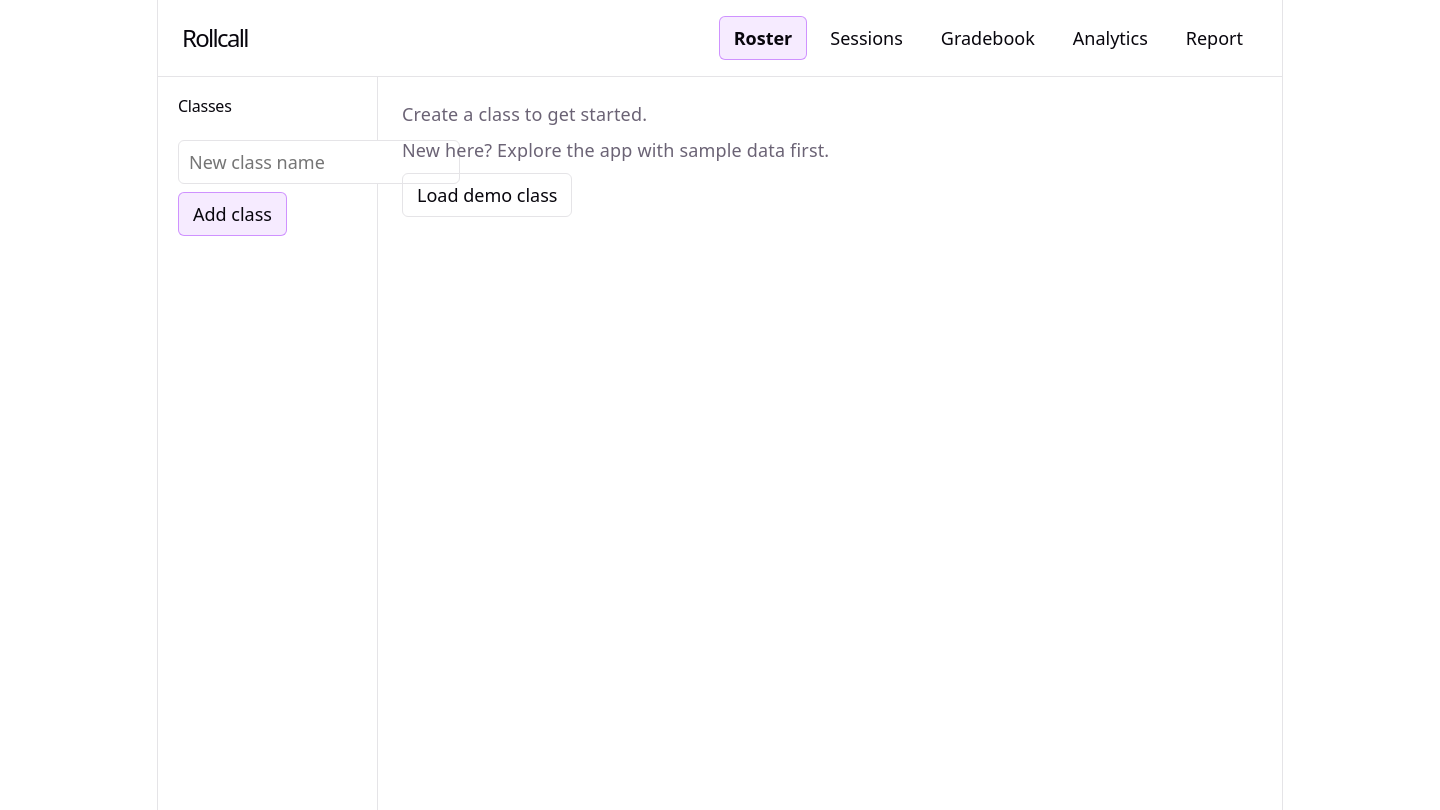
Test: App › edits a participant
Type "Morning Cohort" into the field labelled "New class name" at (319, 162), box x1=178 y1=140 x2=460 y2=184
Click the button "Add class" at (232, 214), box x1=178 y1=192 x2=287 y2=236
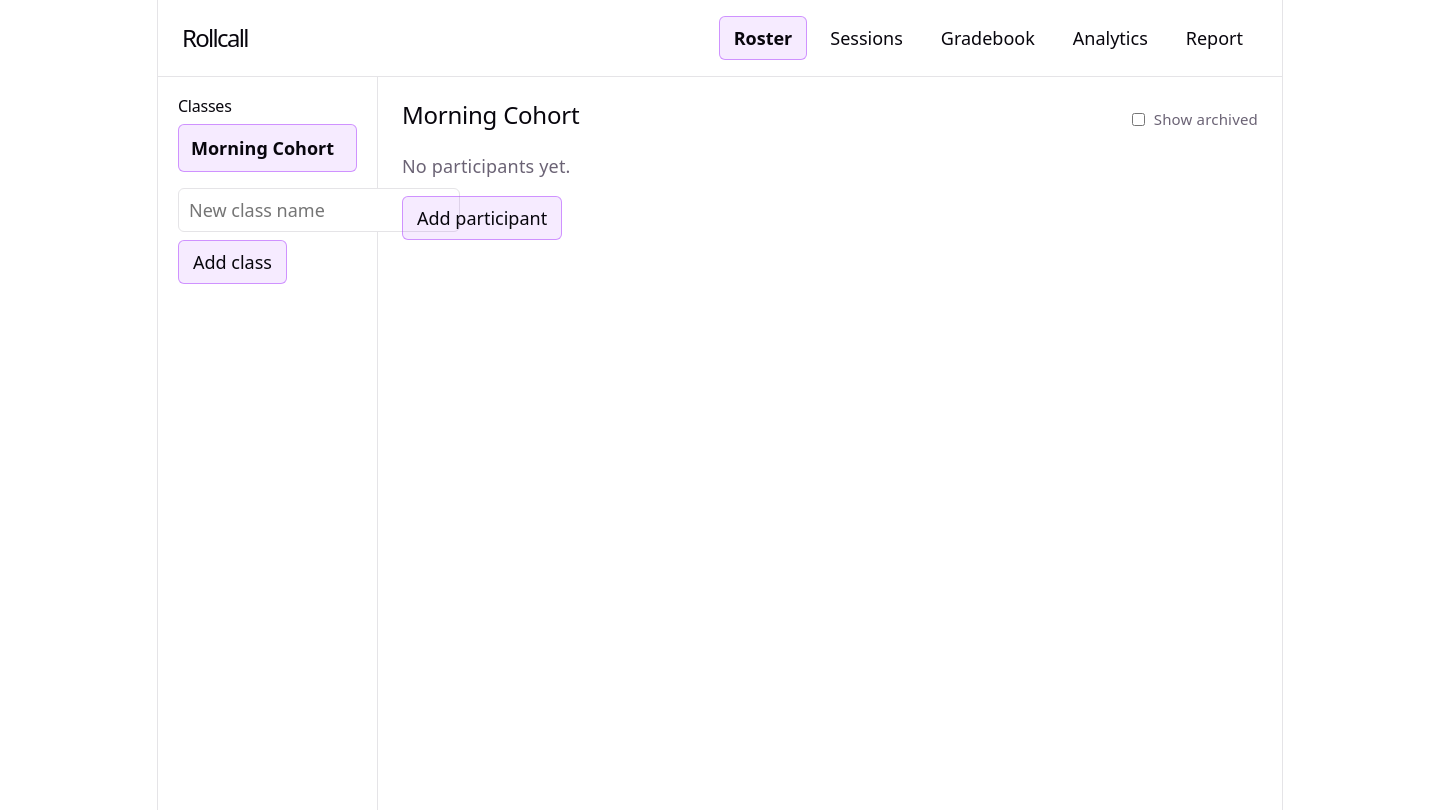
Click the button "Add participant" at (482, 218), box x1=402 y1=196 x2=562 y2=240
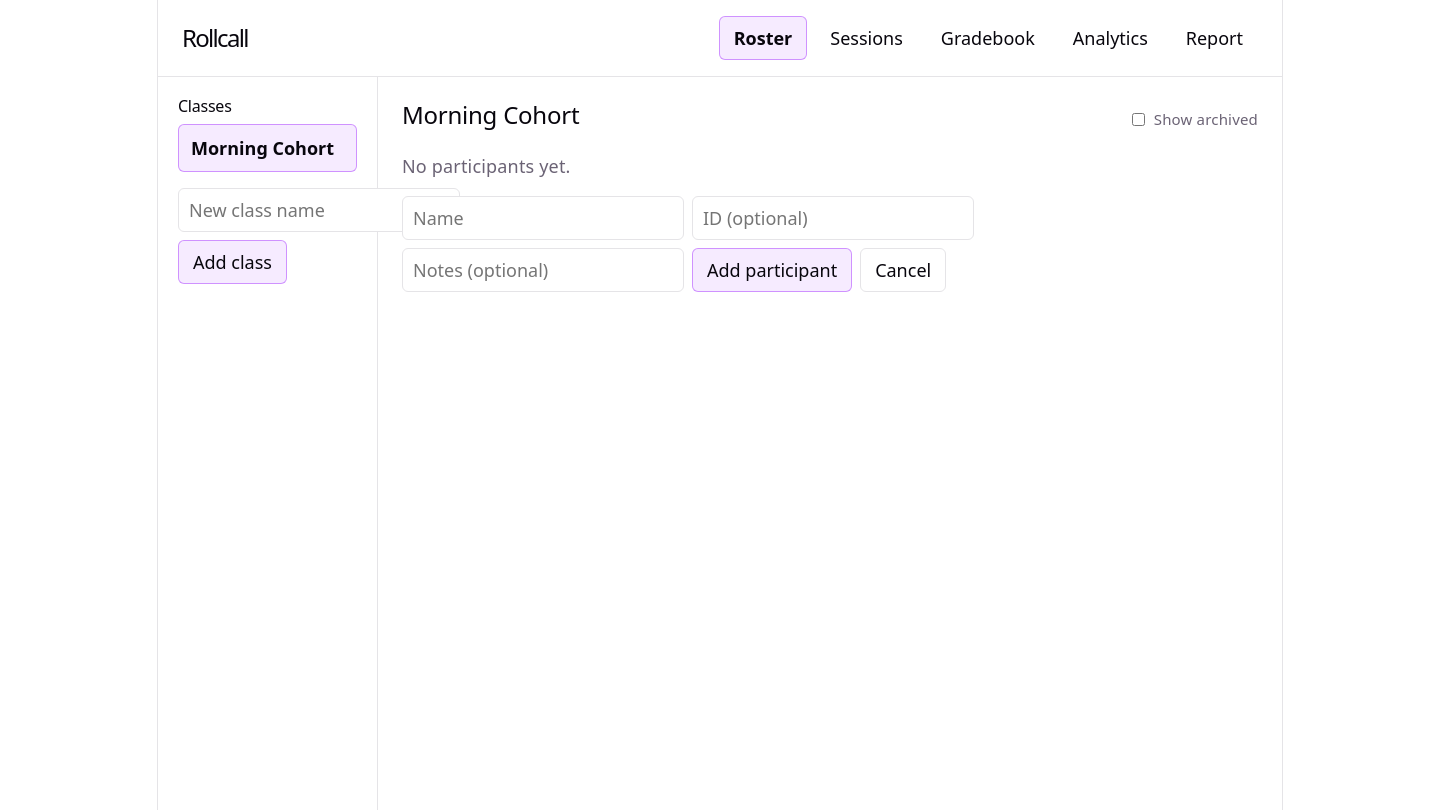
Type "Jane Doe" into the field named "Participant name" at (543, 218), box x1=402 y1=196 x2=684 y2=240
Click the button "Add participant" at (772, 270), box x1=692 y1=248 x2=852 y2=292
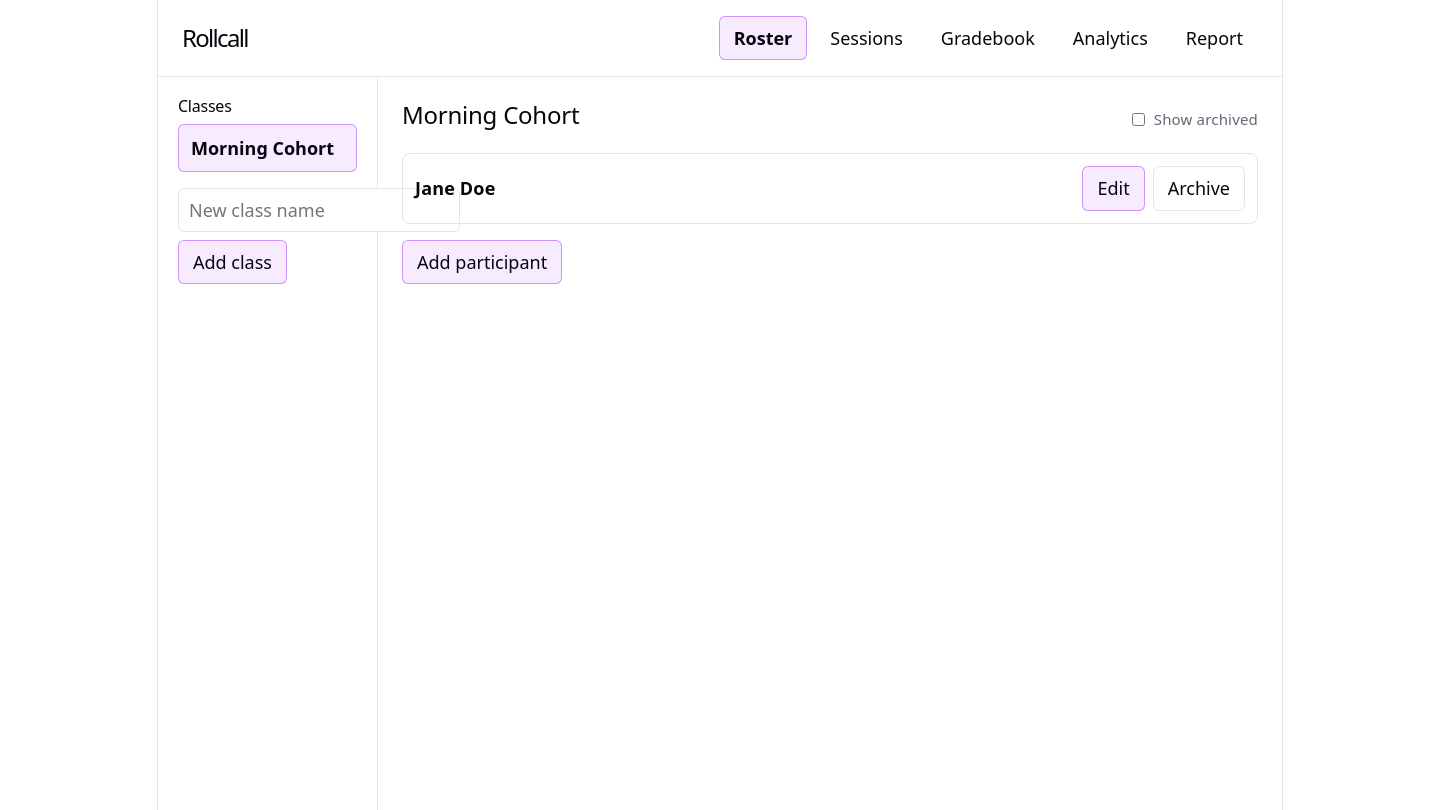
Click the button "Edit" at (1114, 188), box x1=1082 y1=166 x2=1145 y2=210
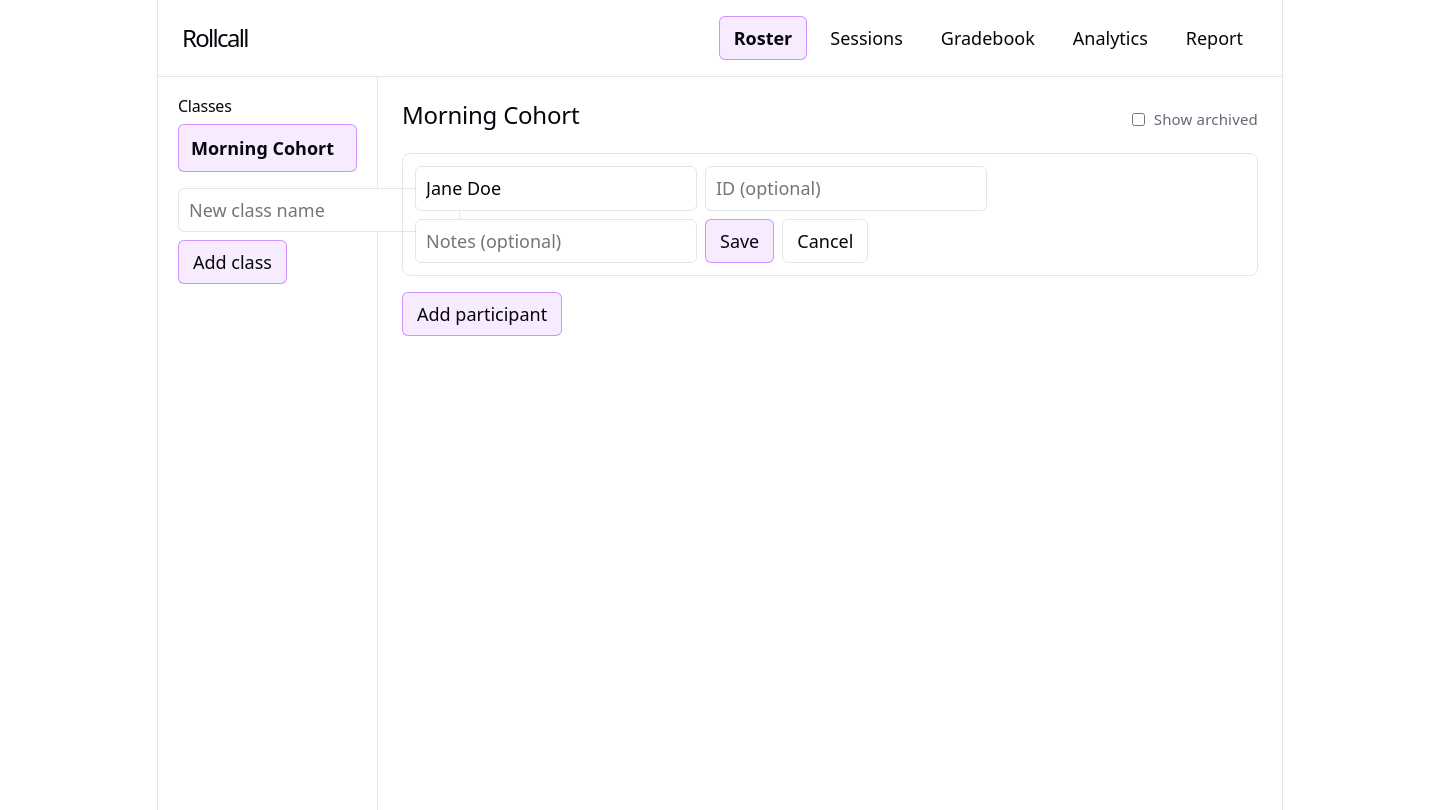
Replace the text in the field named "Participant name" with "Jane Smith" at (556, 188), box x1=415 y1=166 x2=697 y2=210
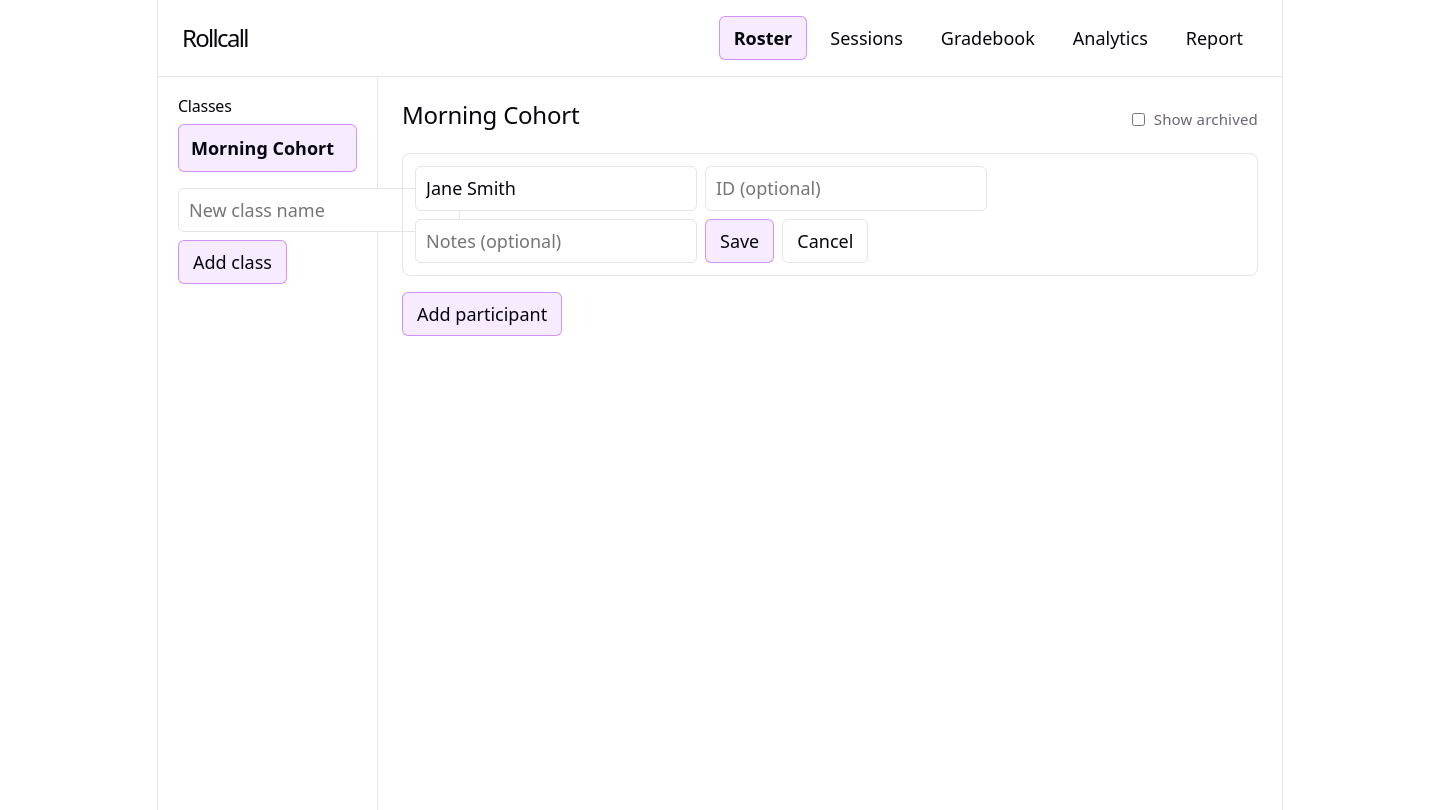
Click the button "Save" at (740, 241), box x1=705 y1=218 x2=774 y2=263
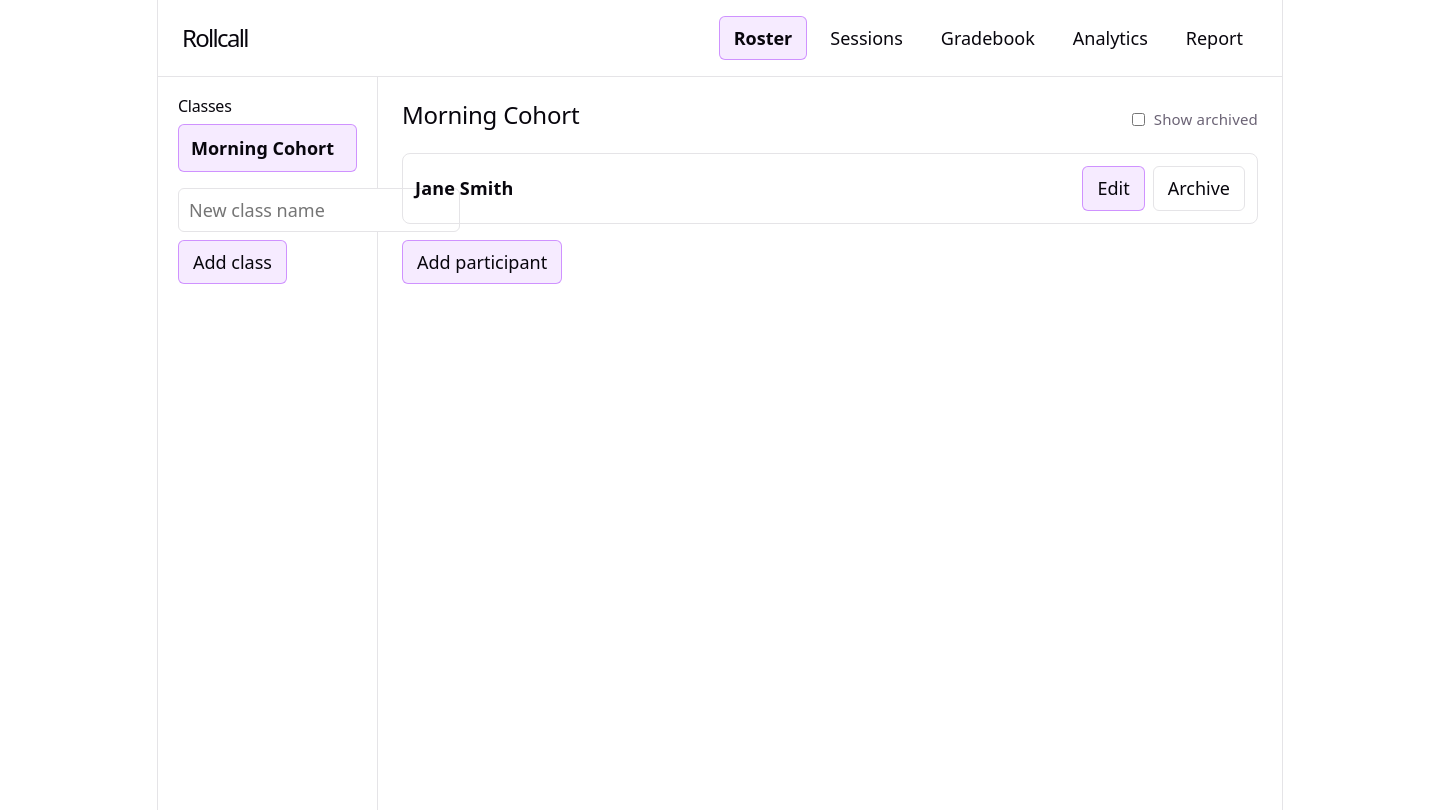
expect the text "Jane Doe" is not shown: met
expect the text "Jane Smith" is shown: met, box x1=415 y1=175 x2=514 y2=202
